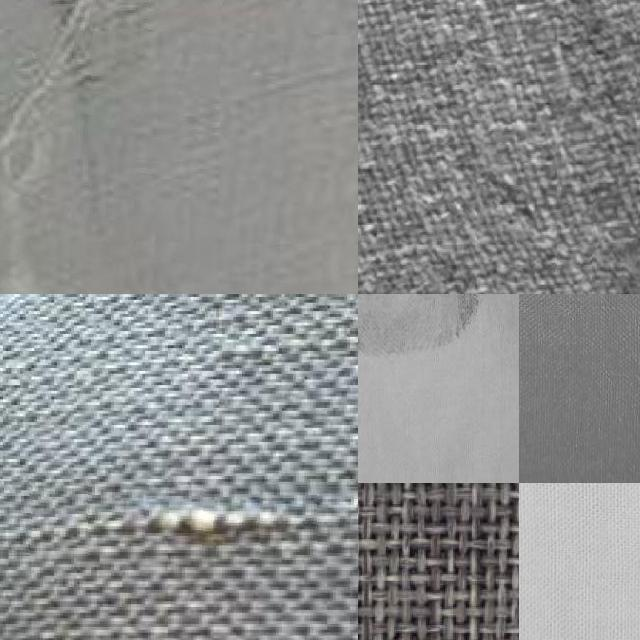Thread_other: (358, 294, 518, 455)
stains: (0, 482, 358, 559)
